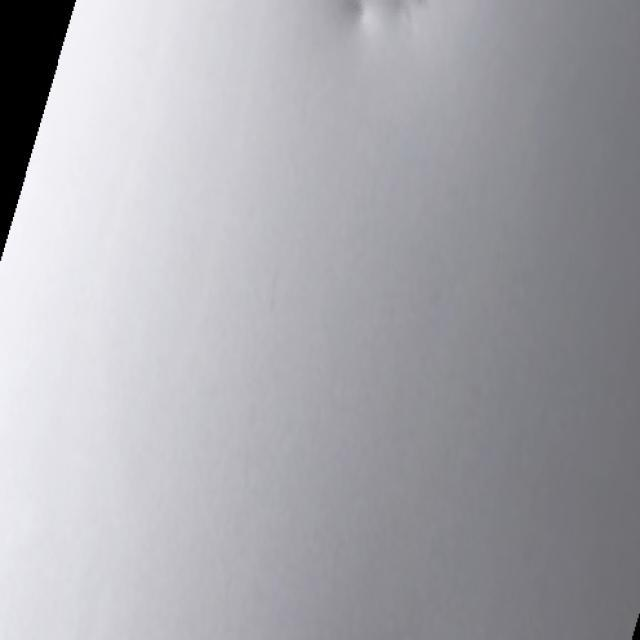dent: (339, 3, 409, 56)
